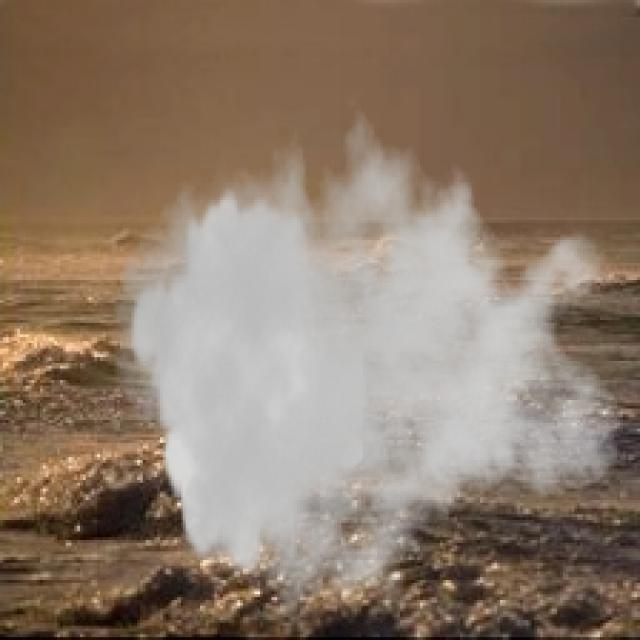smoke: (111, 86, 626, 628)
